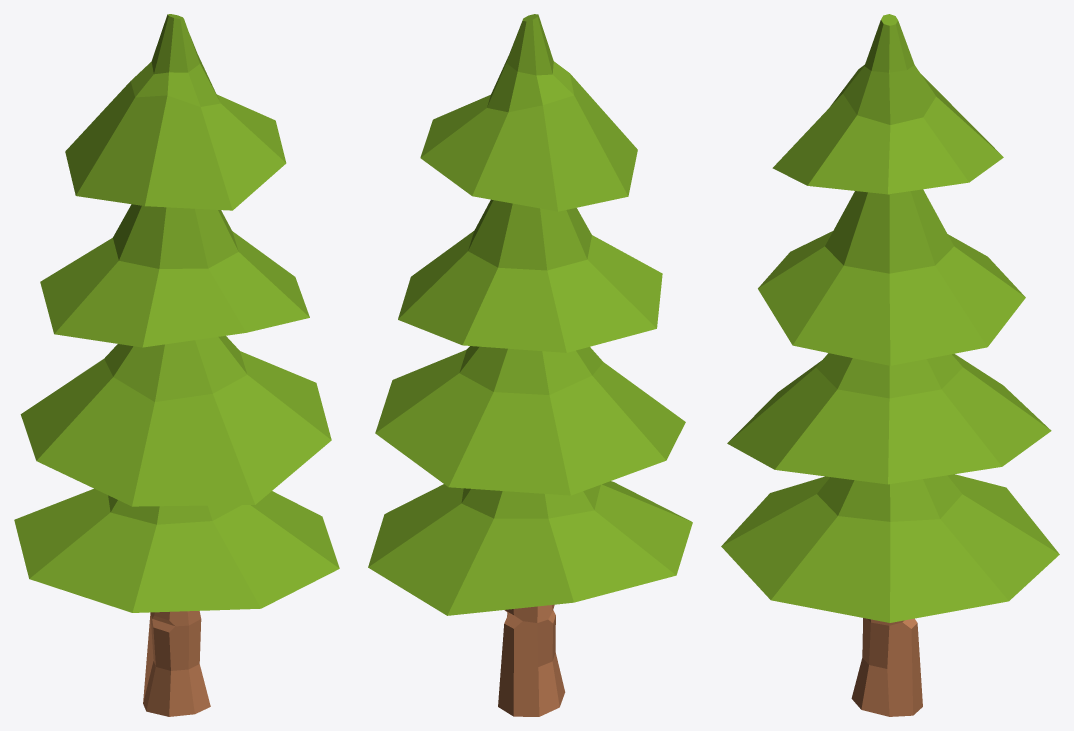
The model's file is Tree.fbx.
3 renders of one model, left to right at view 1: azimuth 30°, elevation 25°; view 2: azimuth 150°, elevation 25°; view 3: azimuth 270°, elevation 25°, orthographic.
Visible parts, largest first — view 1: Low Poly Tree 4; view 2: Low Poly Tree 4; view 3: Low Poly Tree 4.
Part boxes in pixels (x1,y1,x2,y2): Low Poly Tree 4: (14, 14, 339, 716); Low Poly Tree 4: (368, 14, 692, 716); Low Poly Tree 4: (721, 14, 1059, 716).
Size of the model in its own units: 404 by 913 by 407.
